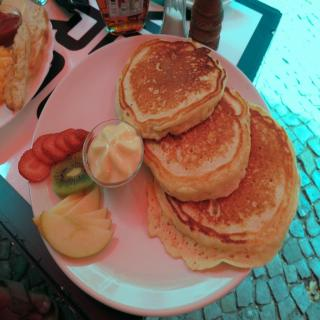Pancake: (143, 86, 299, 272), (112, 36, 226, 136)
